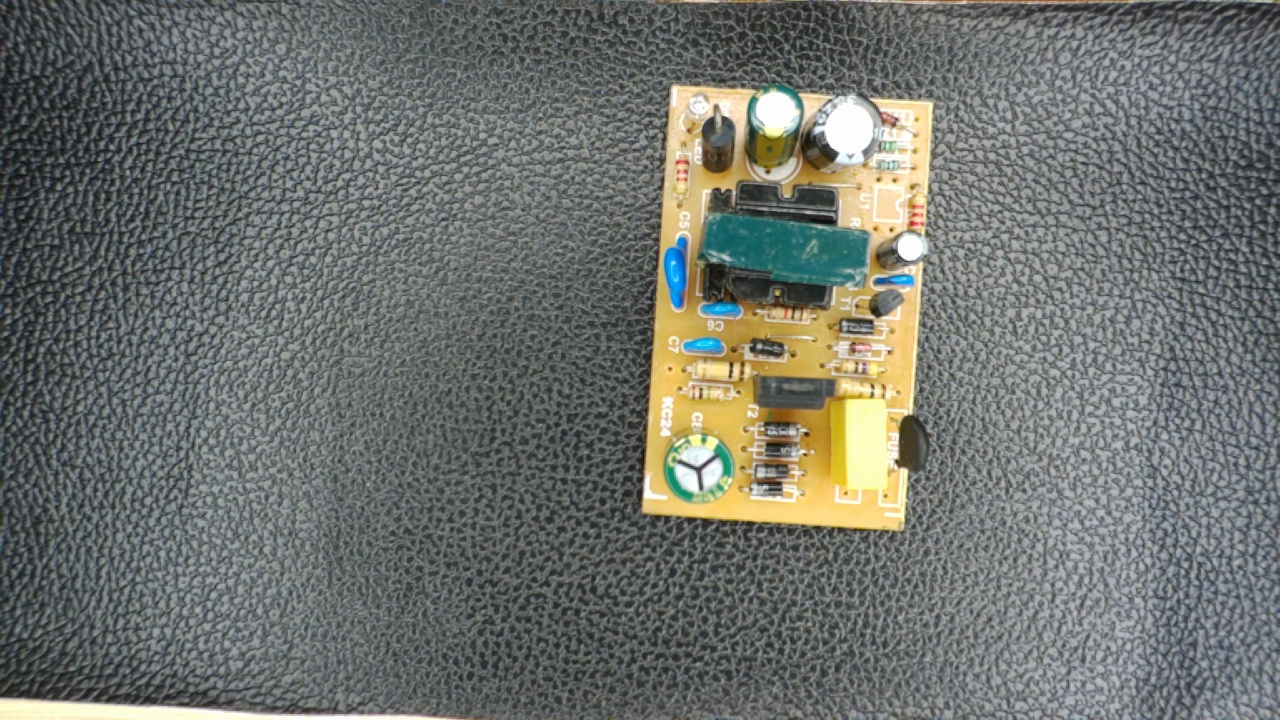fuse: (887, 407, 932, 488)
hv_capacitor: (659, 425, 737, 506)
mov: (659, 234, 698, 315)
